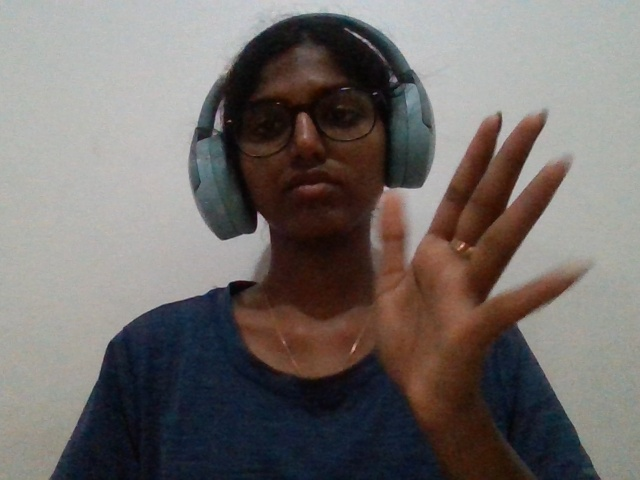Bye: (309, 93, 640, 476)
